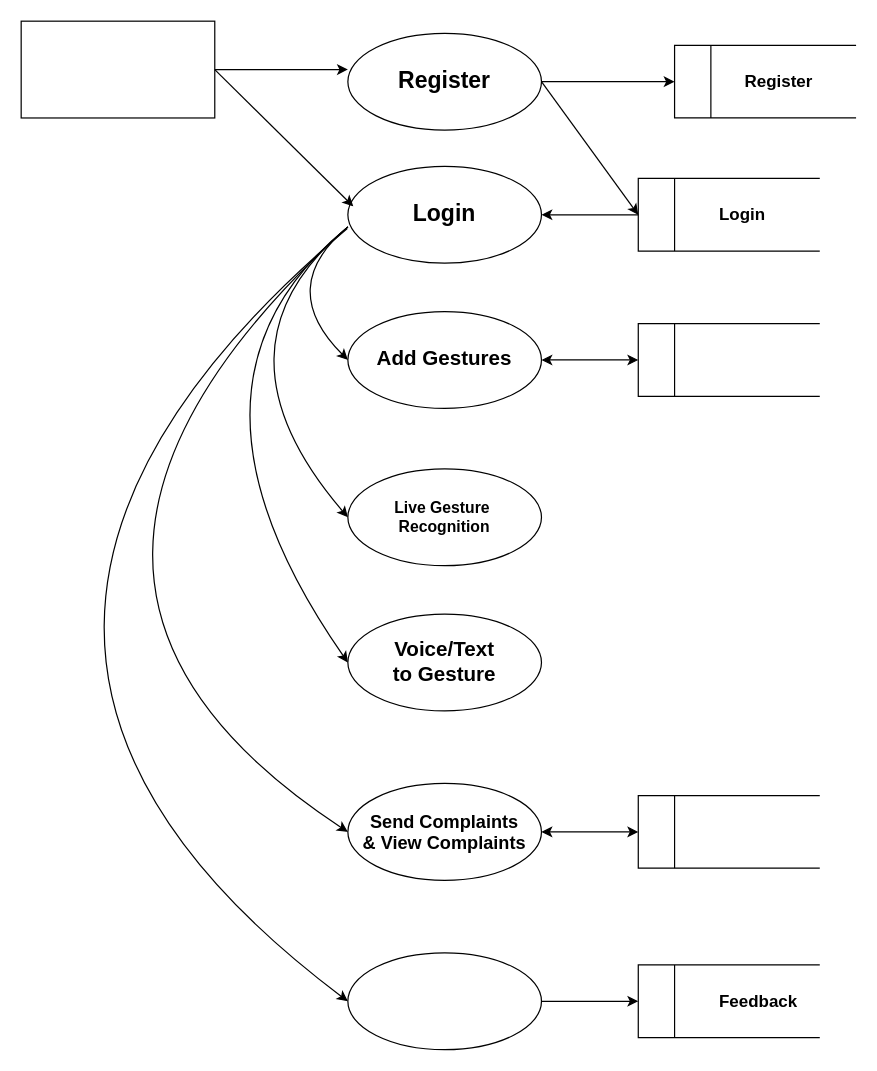
Image size: 877x1071. Some labels were removed from this diagram. Each missing label, with the centre of its shape:
"Complaints & Replies" belongs at (728,831).
"Feedback Submission" belongs at (444,1001).
"Gestures" belongs at (728,359).
"User" belongs at (117,69).
